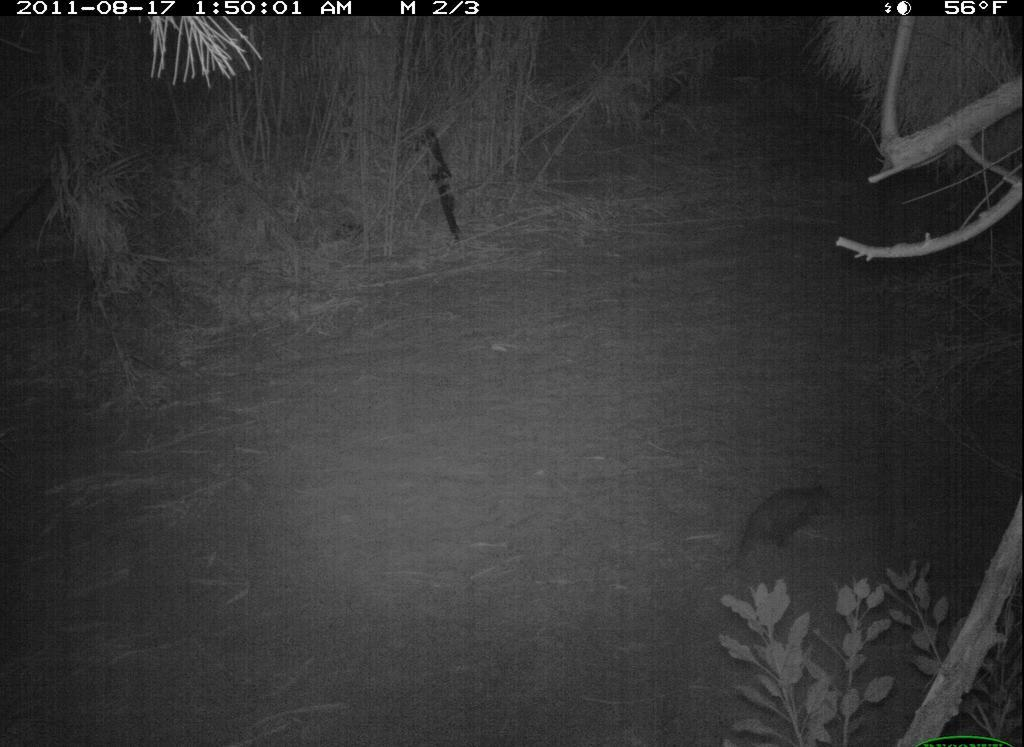opossum: (702, 473, 854, 584)
